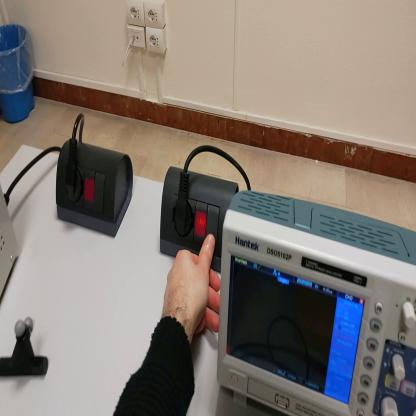hand: (163, 236, 221, 338)
oscilloscope: (218, 188, 416, 414)
power supply: (1, 179, 20, 305)
socket: (160, 165, 240, 274), (55, 140, 135, 238)
